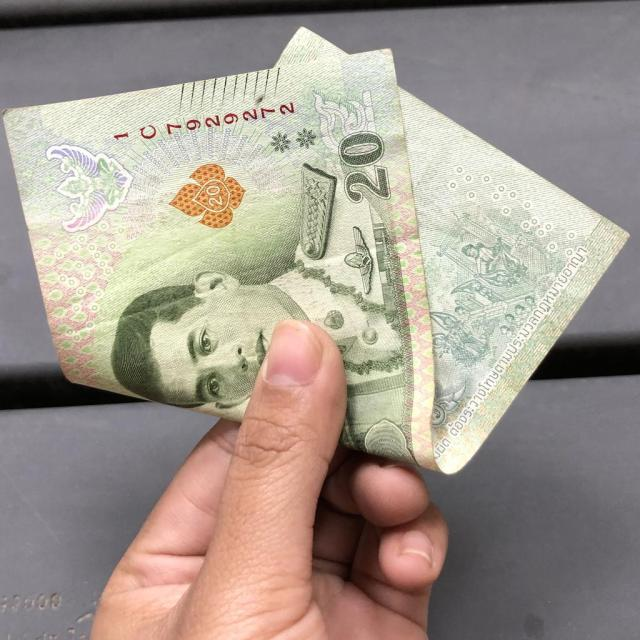THAI20: (4, 28, 628, 473)
